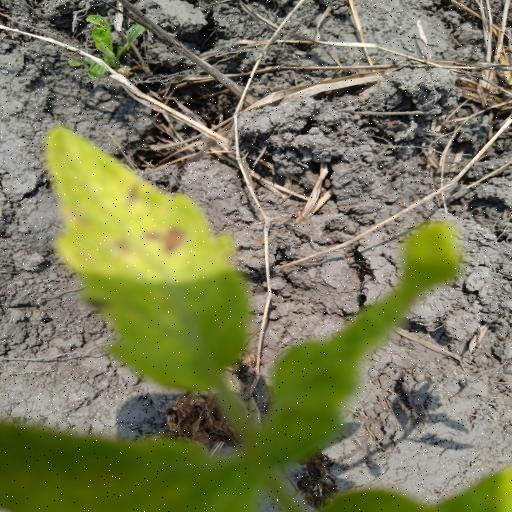Tomato_Brown_Spots: (38, 114, 276, 400)
